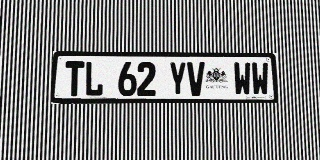2: (137, 62, 155, 96)
6: (118, 61, 137, 96)
L: (84, 61, 104, 96)
T: (65, 61, 84, 96)
V: (187, 62, 205, 96)
W: (233, 62, 251, 96), (251, 62, 269, 96)
Y: (169, 62, 187, 96)
